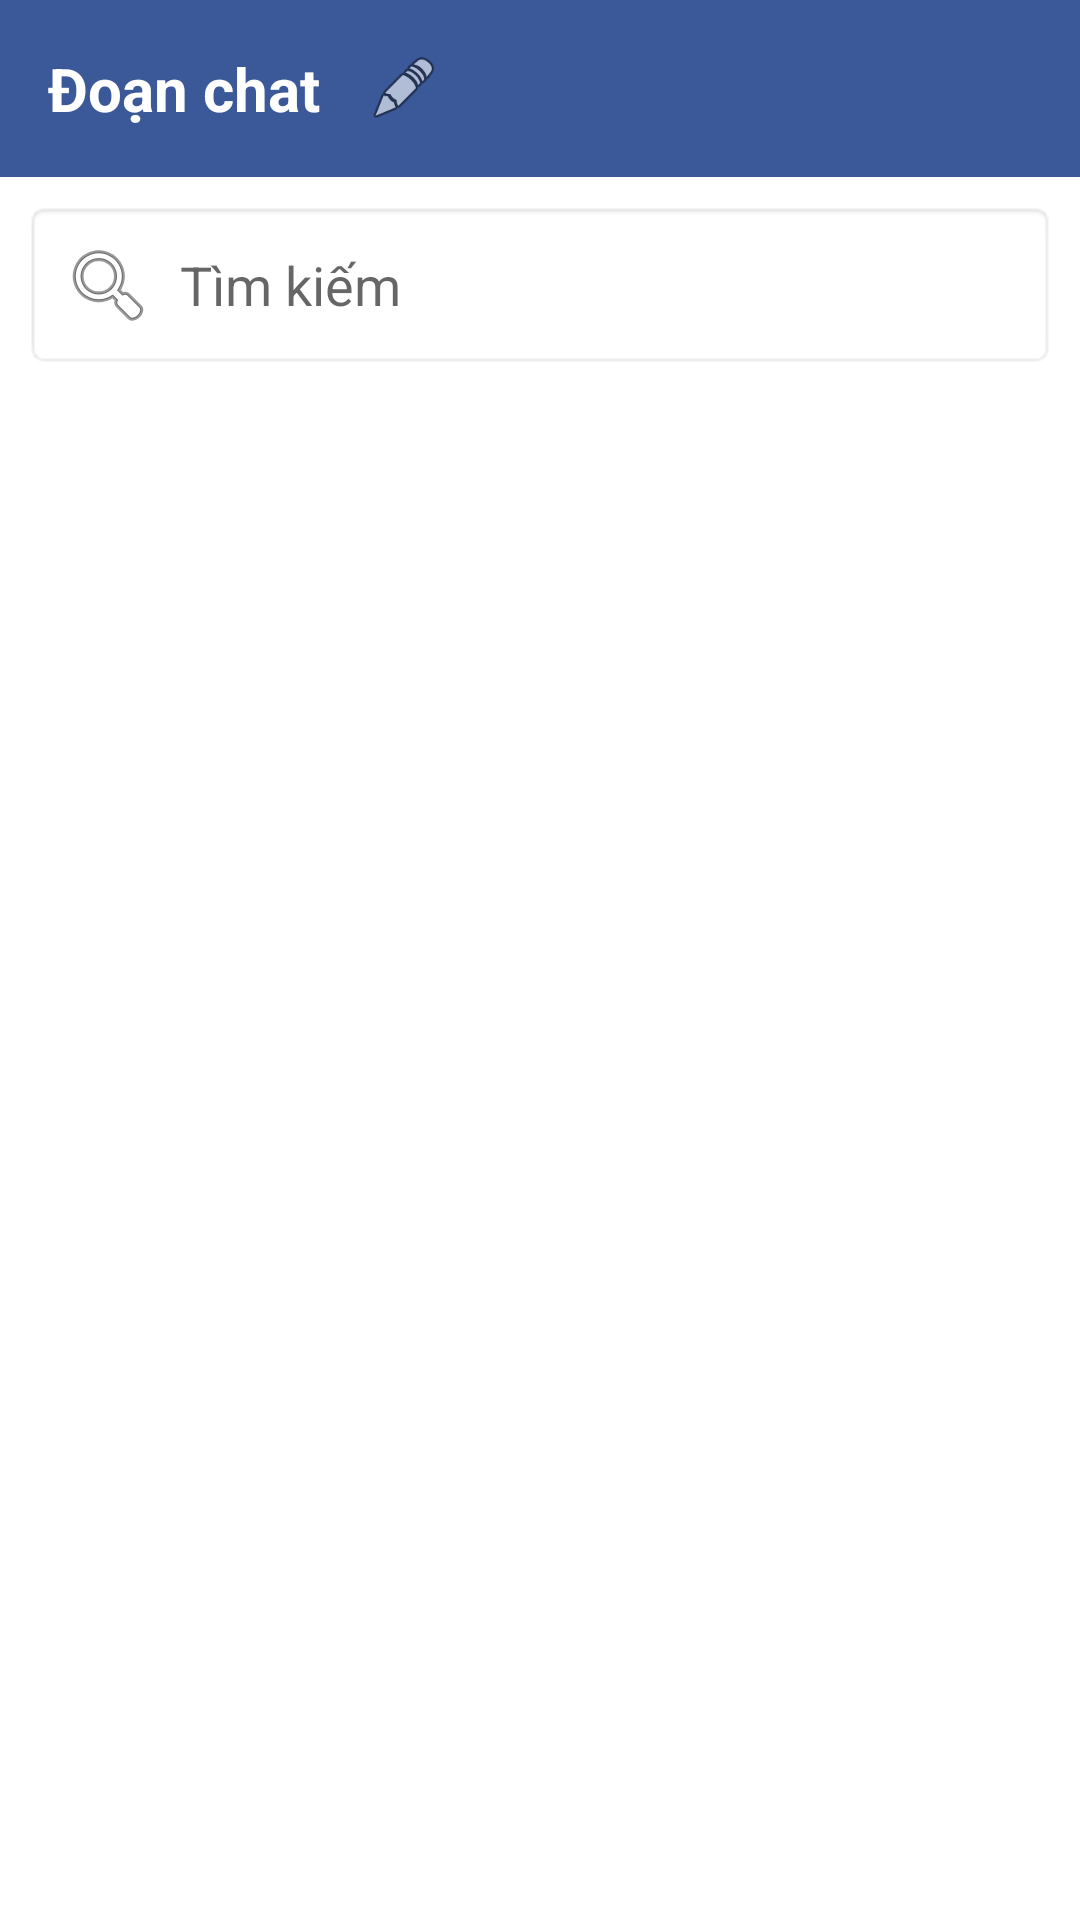

Screen size 1080x1920. Icon name, then its box in pixels as (x1, y1, x2, y2):
edit: (373, 57, 434, 118)
